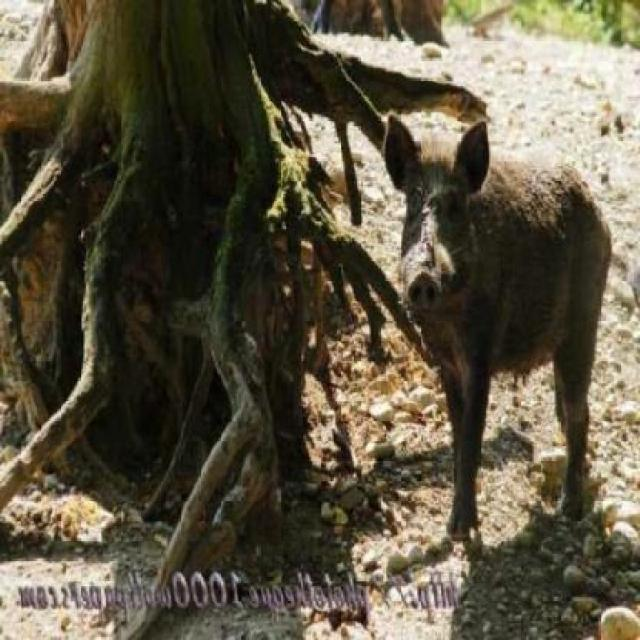Boar: (375, 77, 620, 586)
